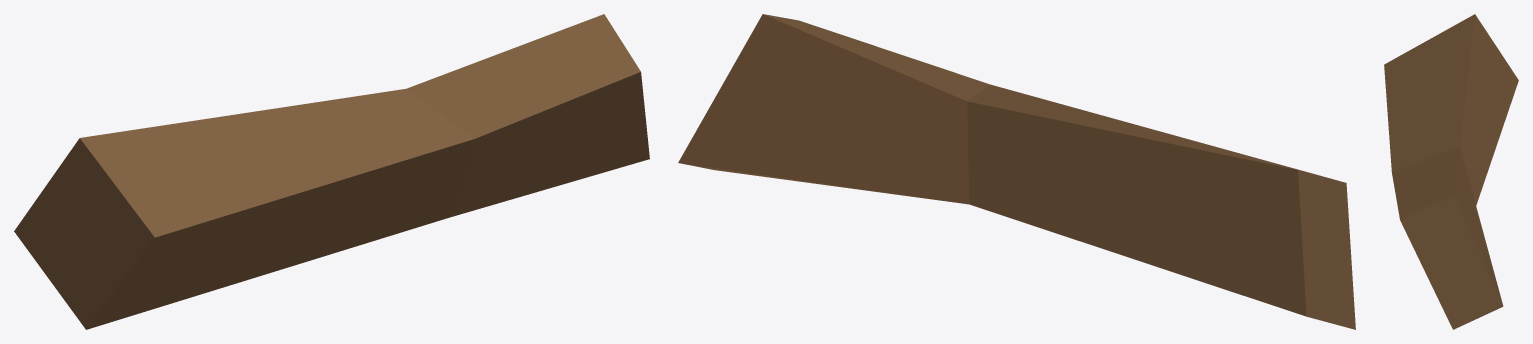
File: Beam_001.fbx
3 renders of one model, left to right at view 1: azimuth 30°, elevation 25°; view 2: azimuth 150°, elevation 25°; view 3: azimuth 270°, elevation 25°, orthographic. The views are drawn at different scales.
Visible parts, largest first — view 1: Beam.001; view 2: Beam.001; view 3: Beam.001.
Part boxes in pixels (x1=…): Beam.001: x1=14, y1=14, x2=649, y2=329; Beam.001: x1=678, y1=14, x2=1355, y2=329; Beam.001: x1=1384, y1=14, x2=1518, y2=329.
Bounding box in the file's own units: 122 × 34.33 × 31.81.
